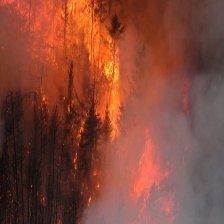fire: (19, 1, 121, 96)
smoke: (142, 11, 224, 202)
